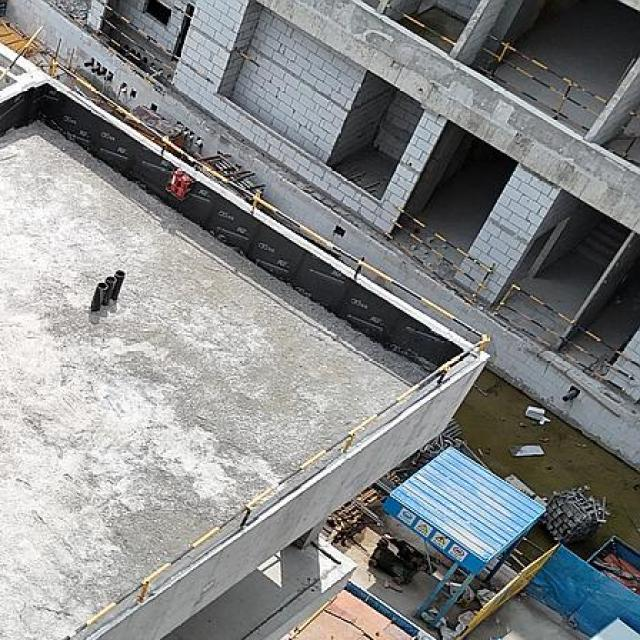edge_guardrail: (49, 55, 493, 640), (493, 283, 640, 394), (478, 34, 606, 134), (383, 206, 496, 306), (97, 0, 212, 84), (386, 4, 456, 46), (0, 24, 44, 82), (623, 110, 640, 160), (172, 4, 192, 20)
